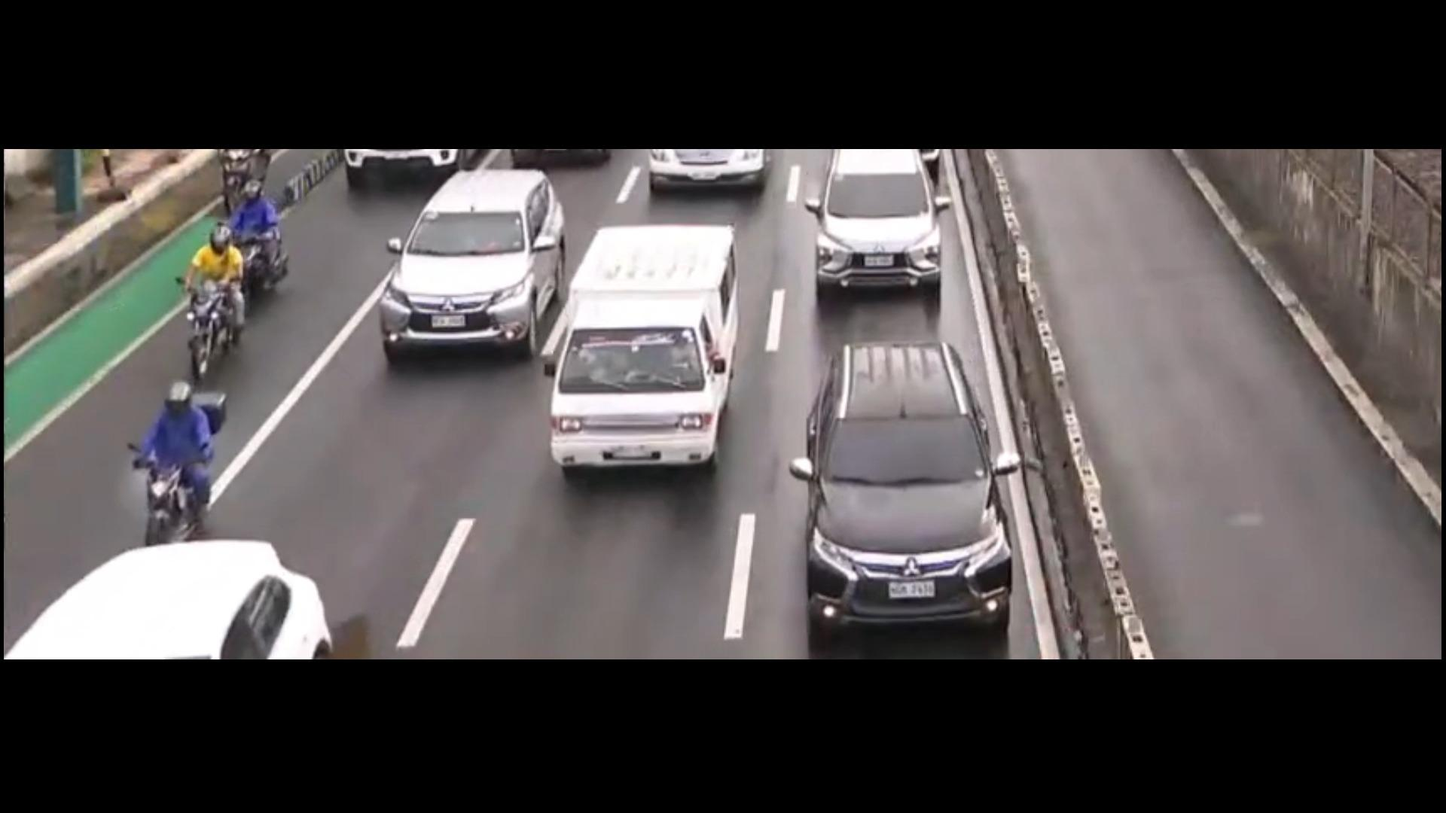Motorcycle: (131, 377, 228, 541), (209, 168, 287, 325), (179, 245, 258, 375)
Multicab: (527, 215, 769, 483)
SUV: (789, 318, 1013, 643), (381, 164, 592, 374)
